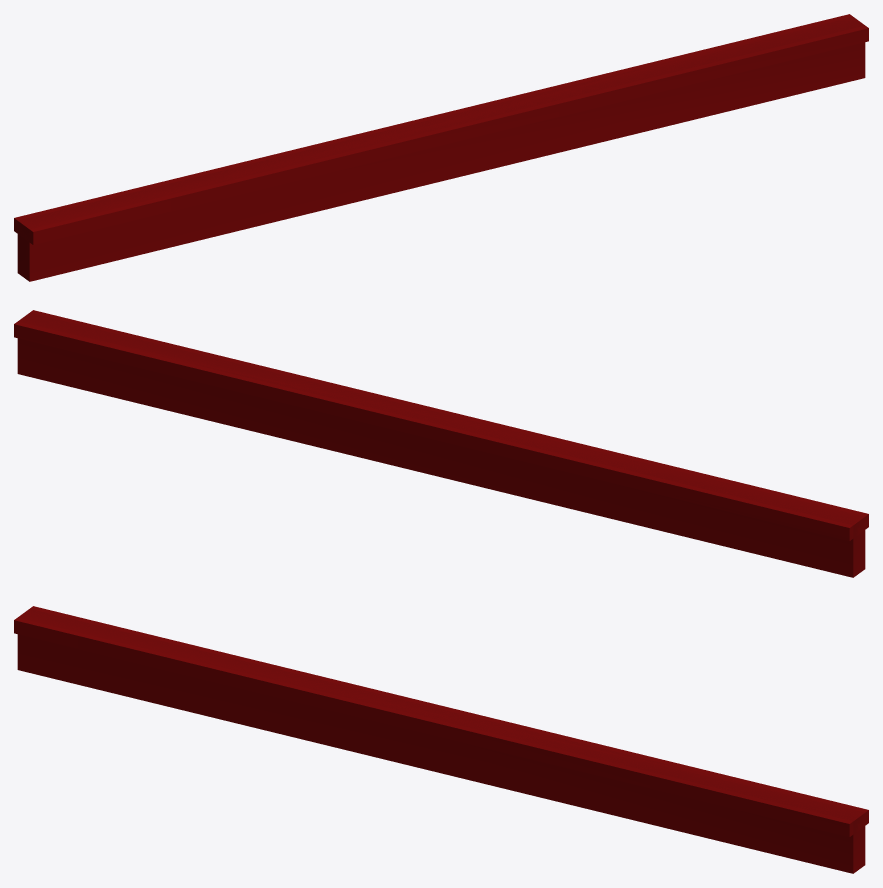
File: trim_crown_2m.glb
3 renders of one model, top to bottom at view 1: azimuth 30°, elevation 25°; view 2: azimuth 150°, elevation 25°; view 3: azimuth 330°, elevation 25°, orthographic.
Parts seen in each view (by area): view 1: trim_crown_2m; view 2: trim_crown_2m; view 3: trim_crown_2m.
Part boxes in pixels (x1,y1,x2,y2): trim_crown_2m: (14,14,868,281); trim_crown_2m: (14,310,868,577); trim_crown_2m: (14,606,868,873).
Bounding box in the file's own units: 2 × 0.12 × 0.08.
